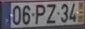0: (11, 4, 21, 25)
3: (59, 2, 69, 23)
4: (68, 2, 77, 22)
6: (21, 4, 30, 25)
P: (34, 4, 45, 25)
Z: (45, 3, 56, 24)
